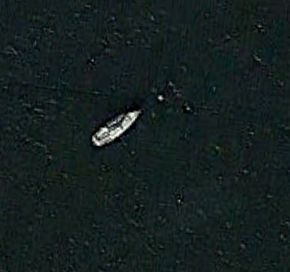boat: (90, 108, 147, 148)
